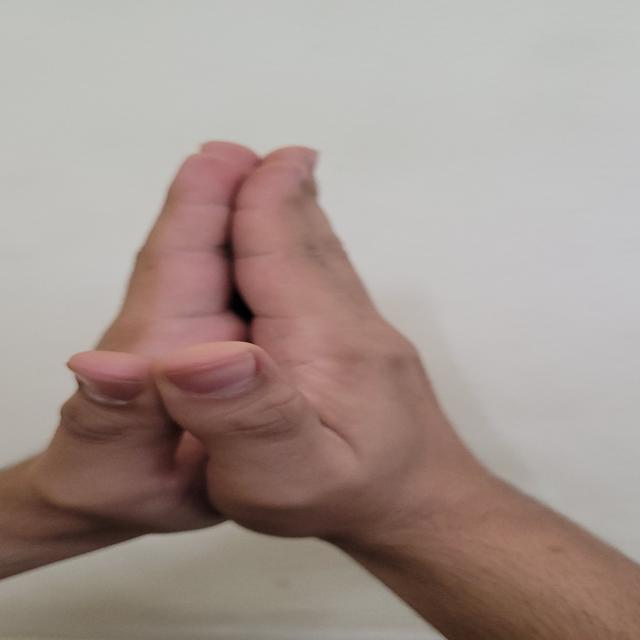Thank You: (19, 141, 586, 596)
